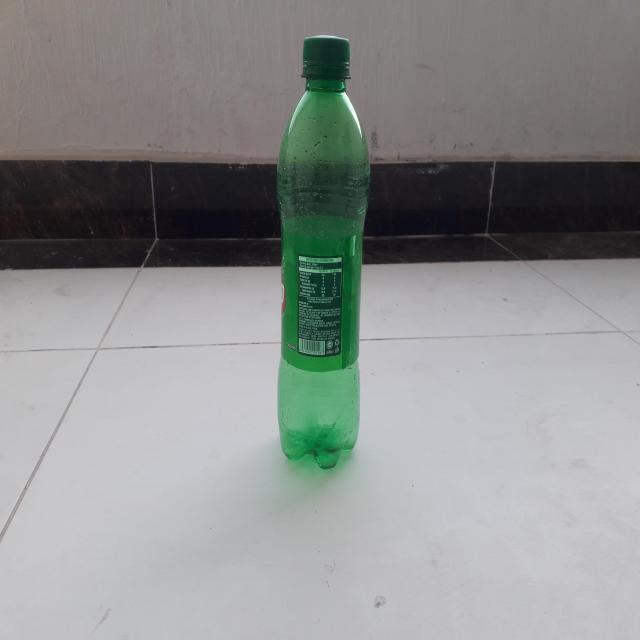plastic bottle: (279, 32, 371, 474)
